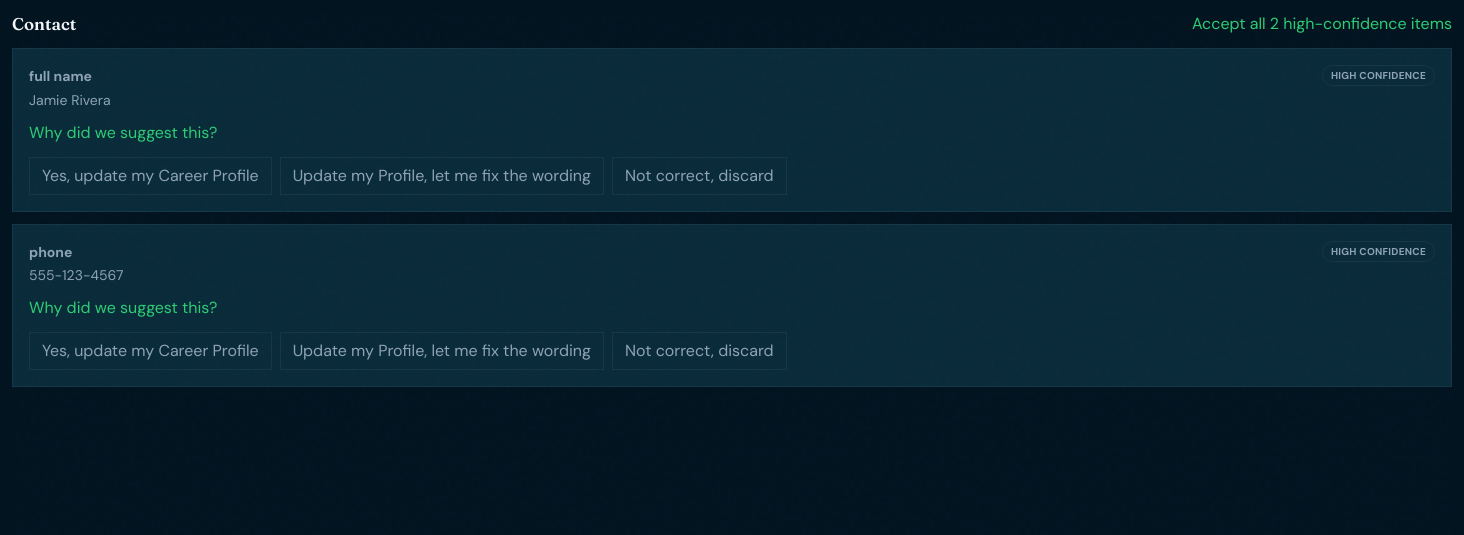
it: ImportReviewPanel › shows the affected items before the bulk action is confirmed
The width and height of the screenshot is (1464, 535).
What coordinates should you click on to do the following:
click the button "Accept all 2 high-confidence items"
I would click on:
 (1322, 24)
Its box is [1192,12,1452,36].
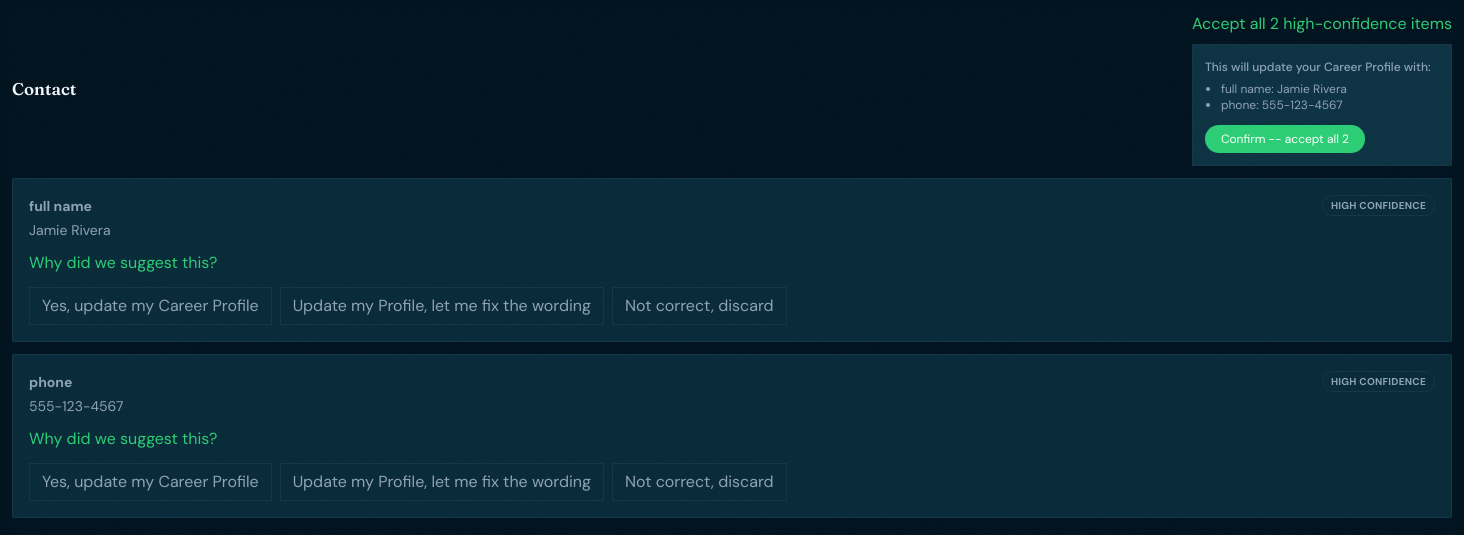
Check: the list item "full name: Jamie Rivera" is shown, box [1221,81,1347,97]
Check: the list item "phone: 555-123-4567" is shown, box [1221,97,1343,113]
